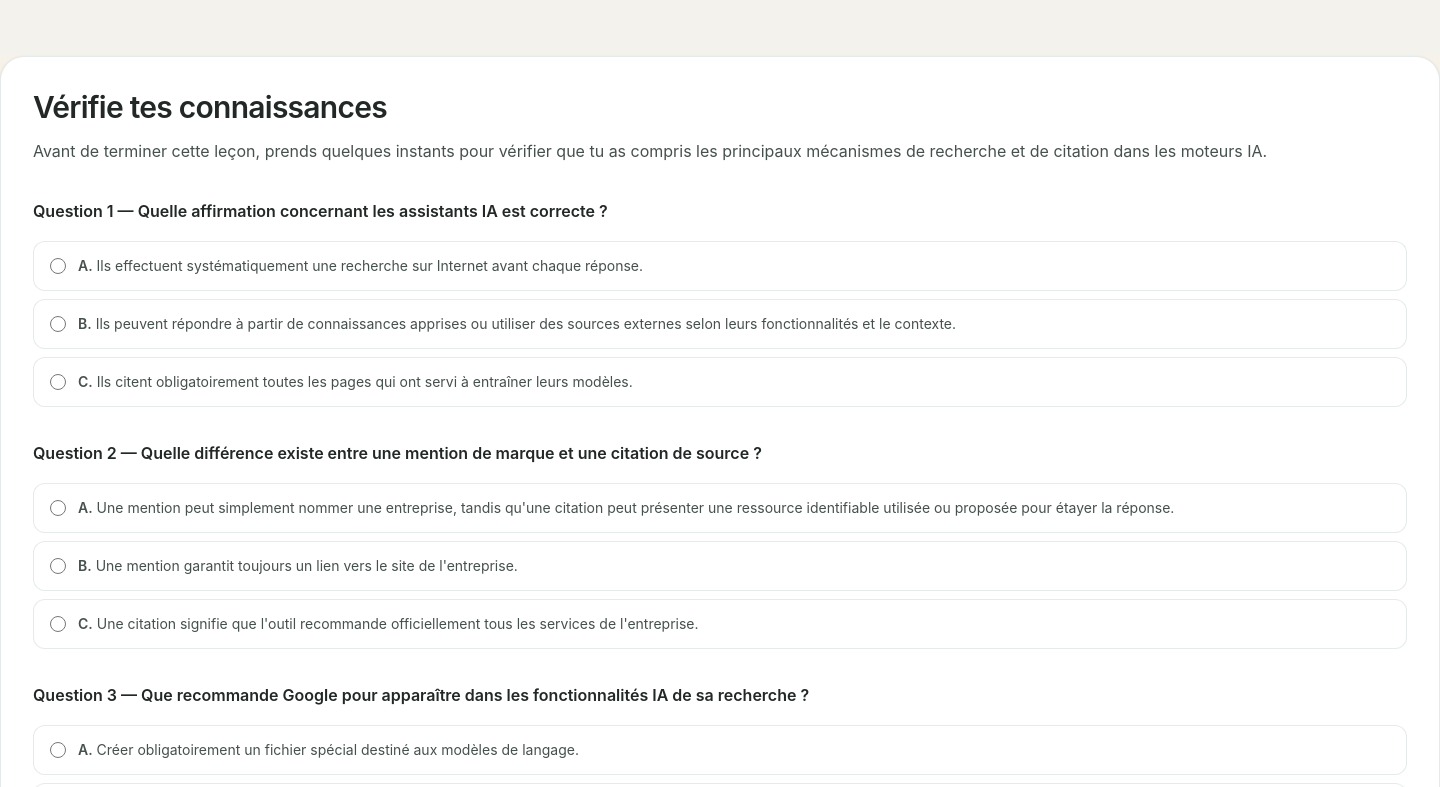
Test: questionnaire de la vingt-troisième leçon SEO › corrige les quatre réponses après validation
Expected: the text "Question 4 : B." is not shown
Click the radio button named "quiz-question-1": coordinates (58, 324) [50,316,66,332]
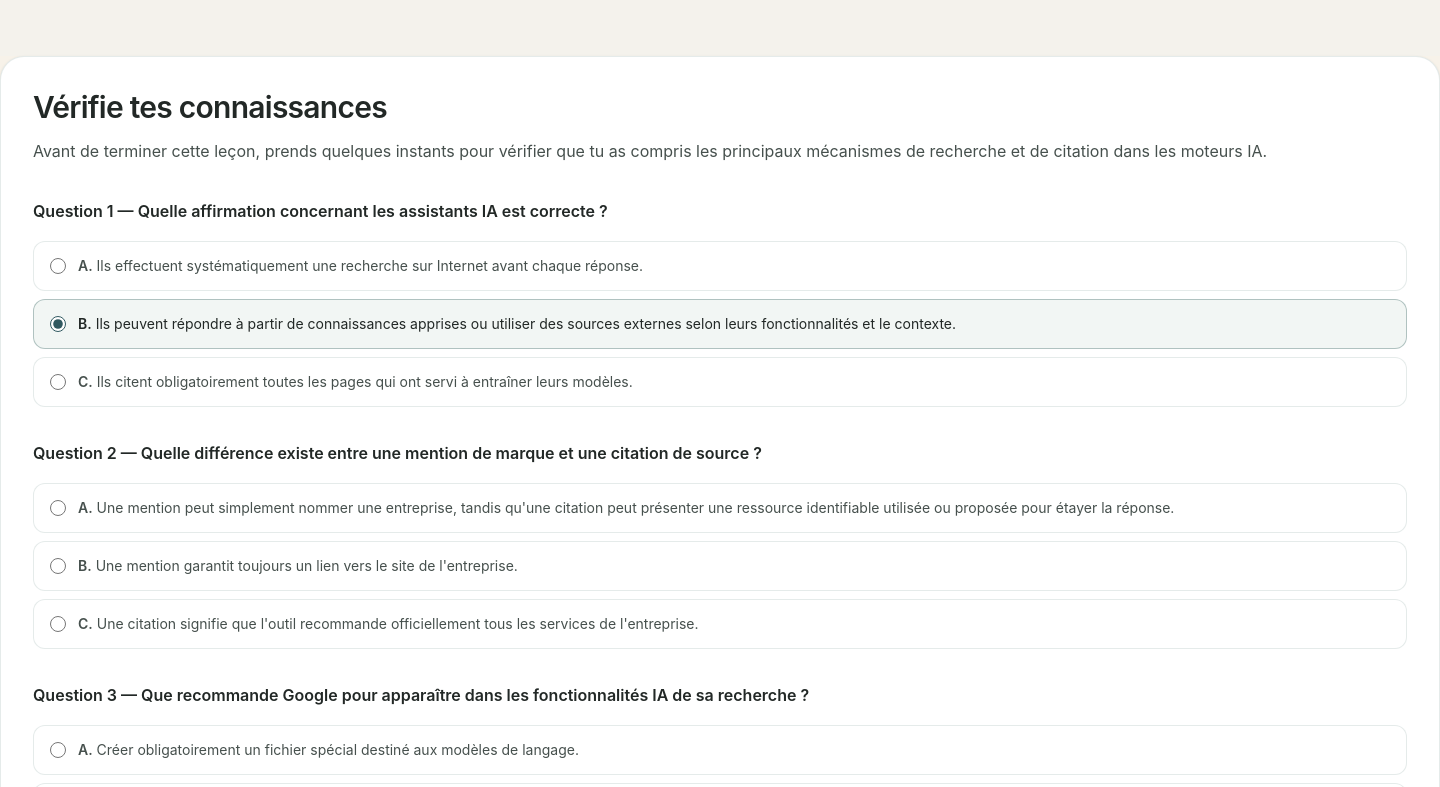
Click the radio button named "quiz-question-2": coordinates (58, 508) [50,500,66,516]
(page scrolled)
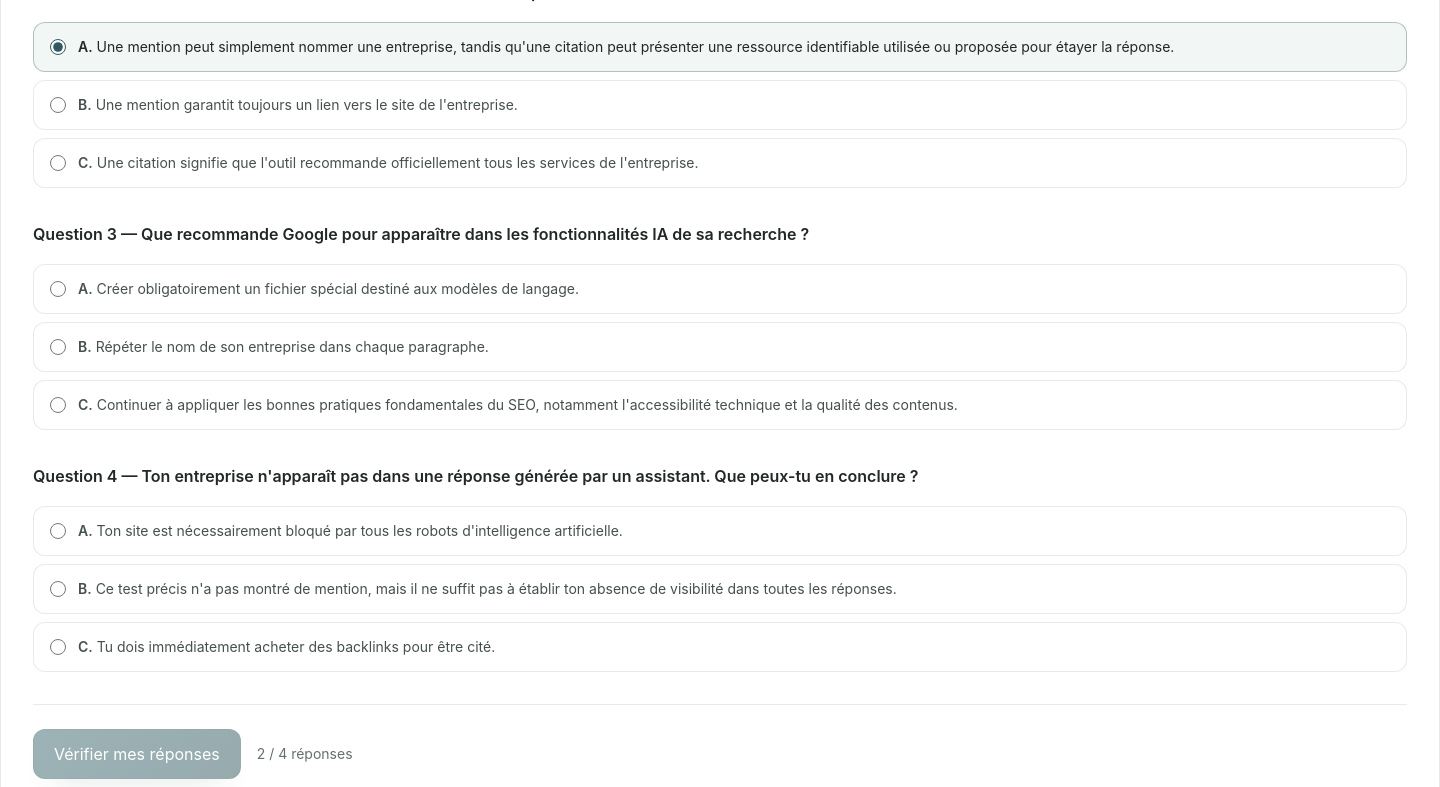
Click the radio button named "quiz-question-3": coordinates (58, 405) [50,397,66,413]
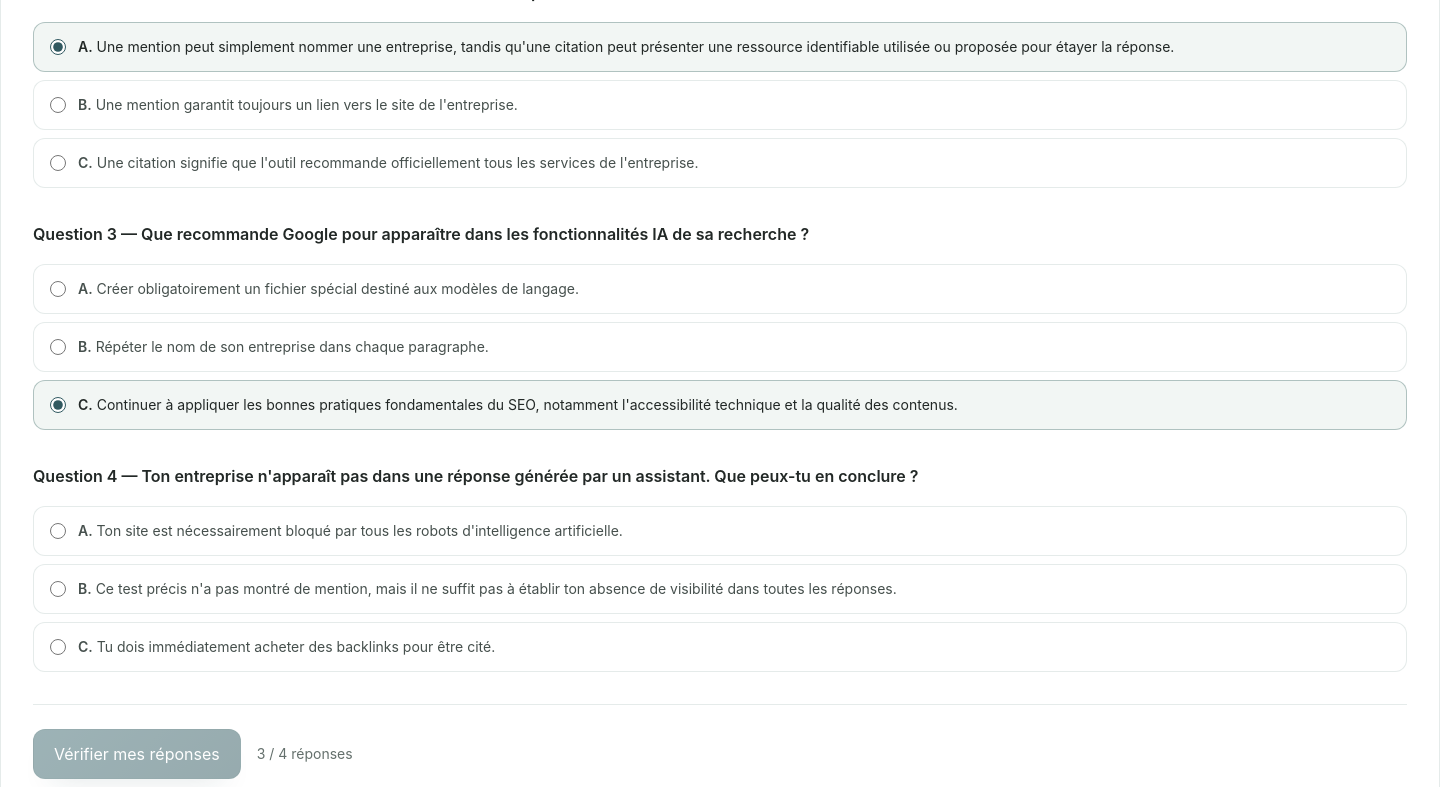
Click the radio button named "quiz-question-4": coordinates (58, 589) [50,581,66,597]
(page scrolled)
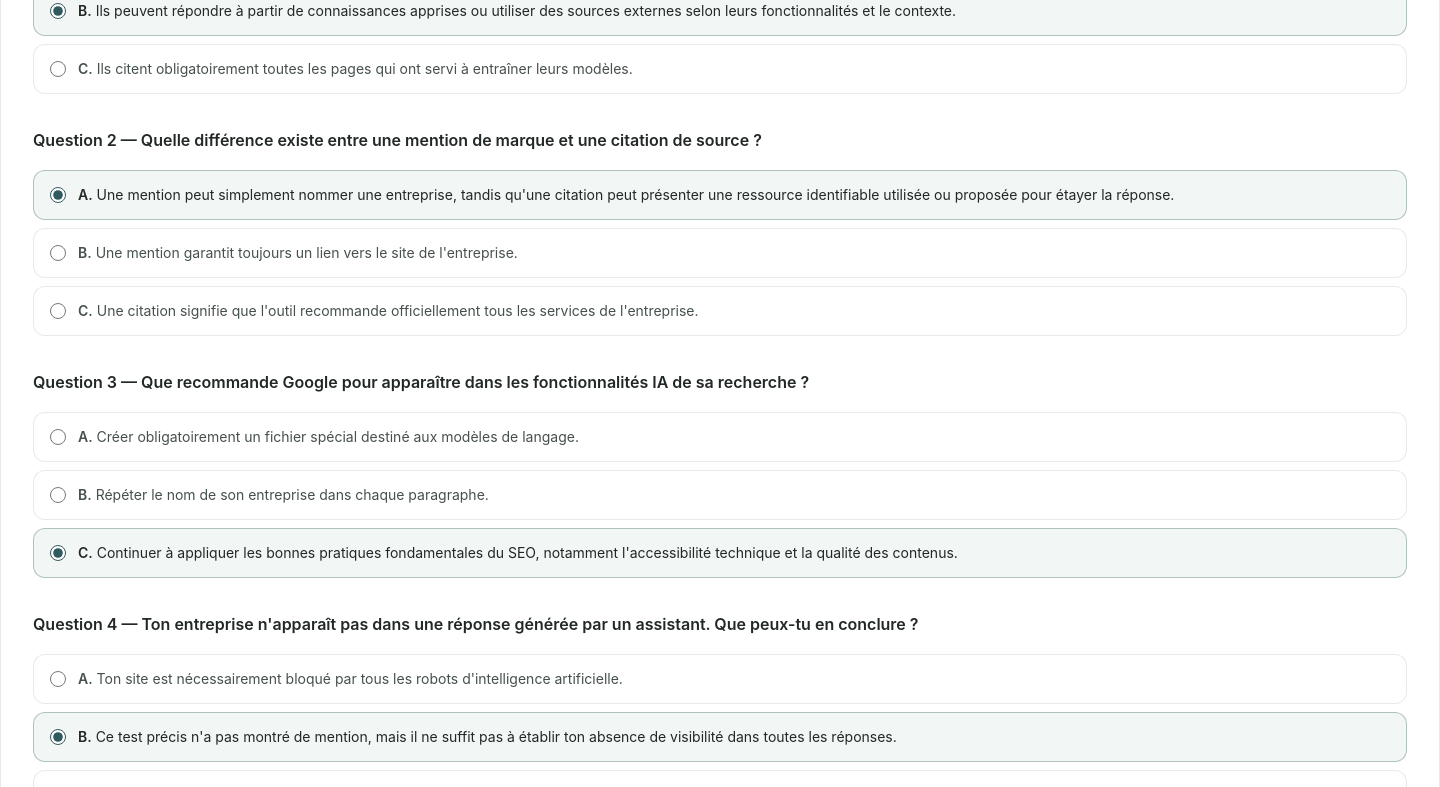
Submit the form
(page scrolled)
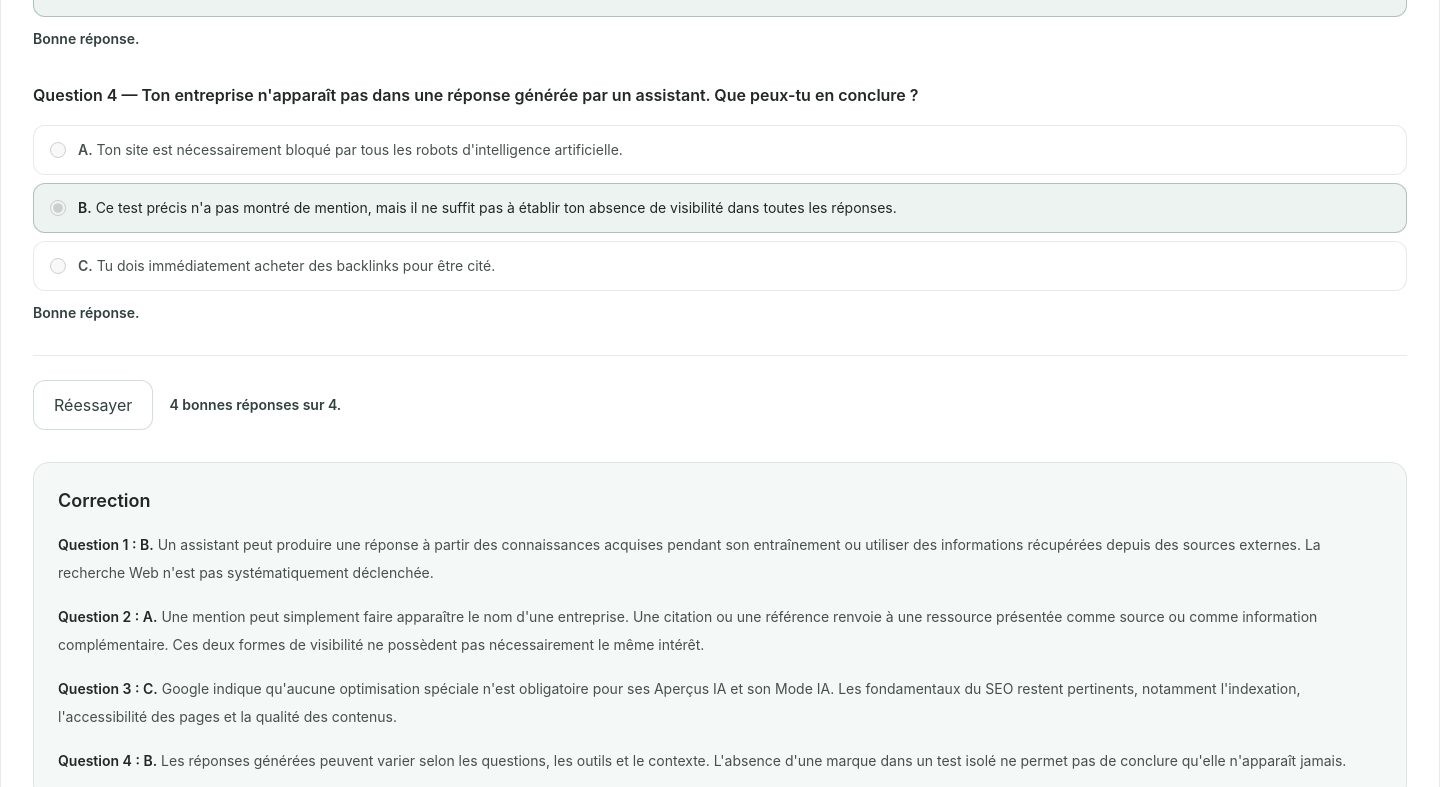
Result: the message "4 bonnes réponses sur 4." is shown at [169,395,341,415]
Result: the text "Question 4 : B." is shown at [58,752,157,769]
Result: the text "ne permet pas de conclure qu'elle n'apparaît jamais" is shown at [157,752,1346,769]
